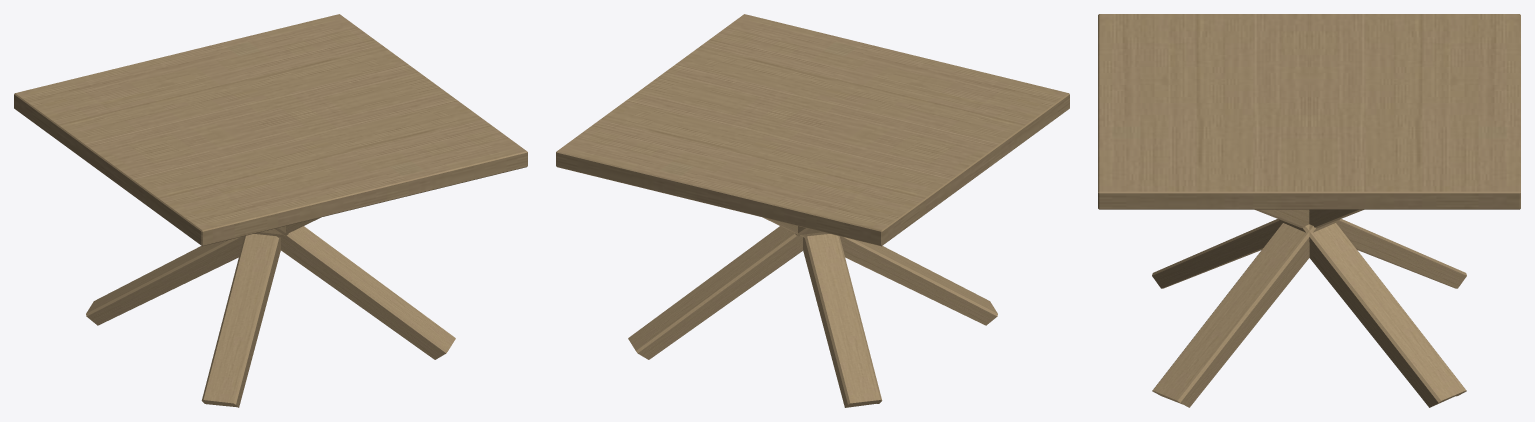
File: square-ash.glb
3 views of the same model, side by side, from view 1: azimuth 30°, elevation 25°; view 2: azimuth 150°, elevation 25°; view 3: azimuth 270°, elevation 25° (orthographic). The views are drawn at different scales.
Visible parts, largest first — view 1: Wood_Square, Base_Square; view 2: Wood_Square, Base_Square; view 3: Wood_Square, Base_Square.
Part boxes in pixels (x1,y1,x2,y2): Wood_Square: (14,14,527,246); Base_Square: (86,217,455,407); Wood_Square: (556,14,1069,246); Base_Square: (628,217,997,407); Wood_Square: (1098,14,1520,209); Base_Square: (1152,209,1466,407).
Size of the model in its own units: 1.22 by 0.762 by 1.22.
1 material, 1 textured.
